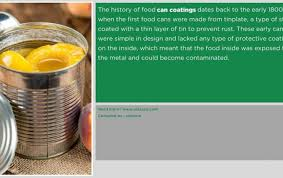can: (1, 18, 90, 178)
